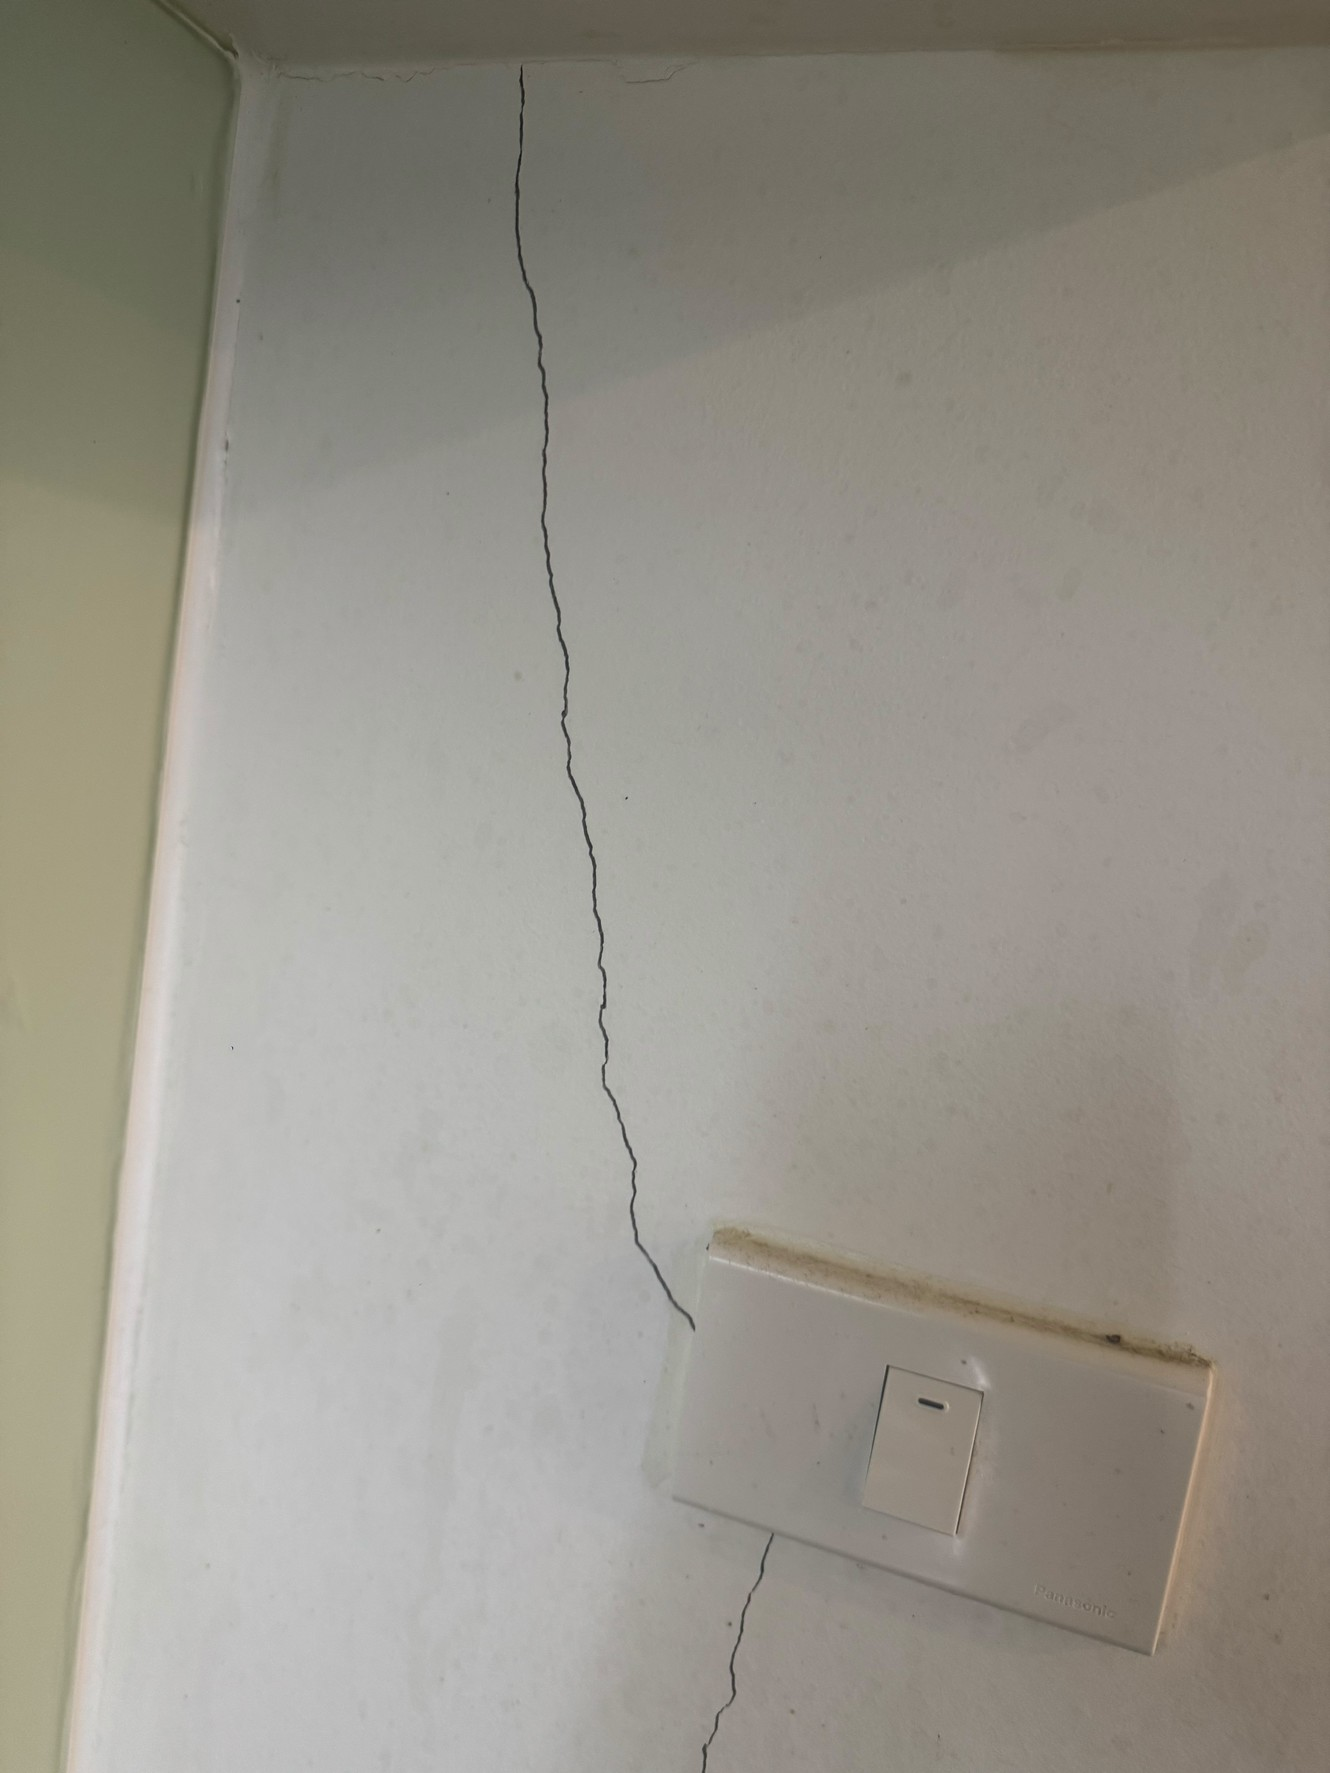Low: (467, 52, 693, 1345)
